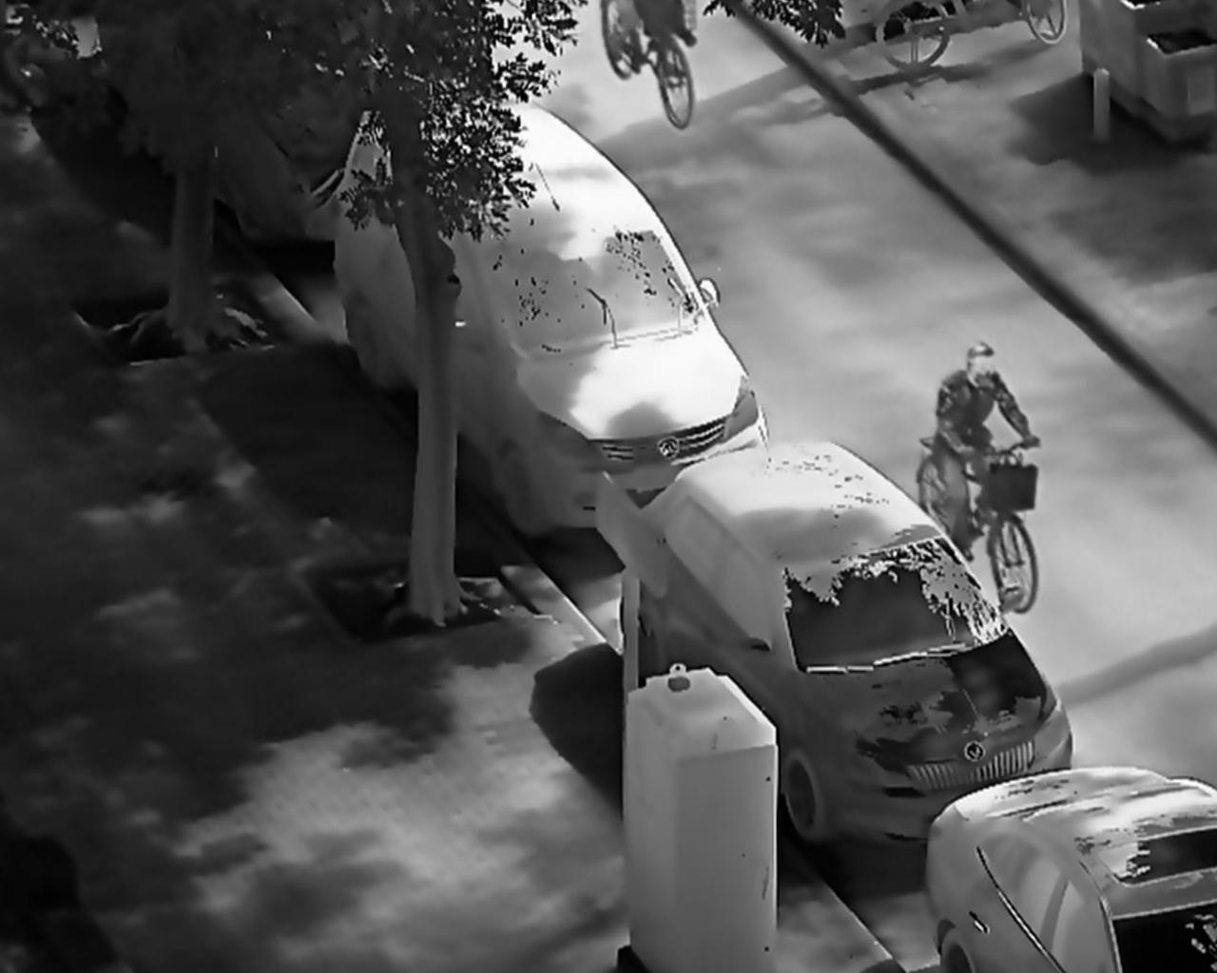person: (930, 339, 1044, 568)
